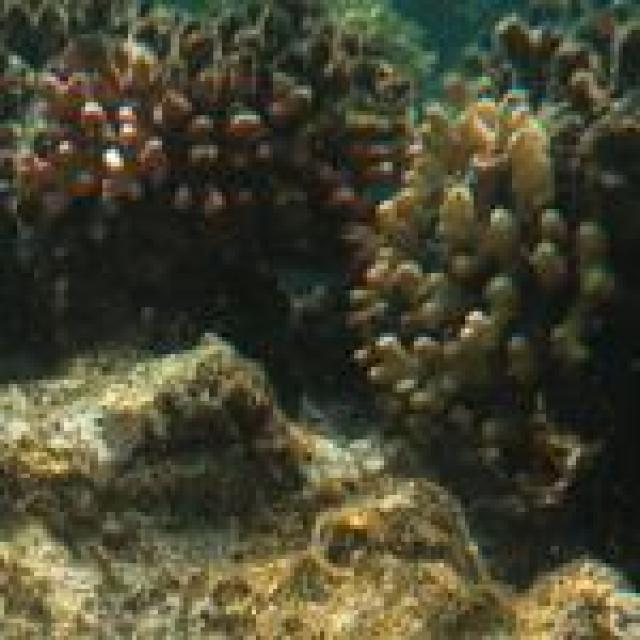Bleached Coral: (363, 88, 563, 451)
Healthy Coral: (0, 34, 332, 206)
